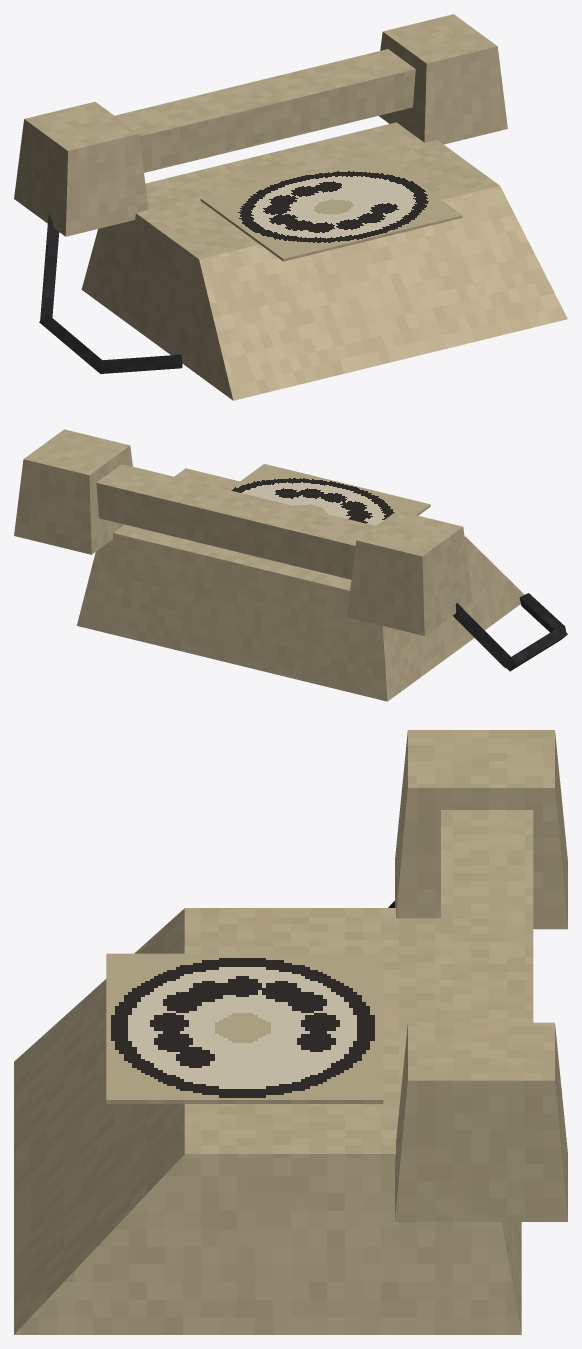
File: desk_phone.glb
3 views of the same model, one above another, from view 1: azimuth 30°, elevation 25°; view 2: azimuth 150°, elevation 25°; view 3: azimuth 270°, elevation 25° (orthographic). The views are drawn at different scales.
Parts seen in each view (by area): view 1: desk_phone; view 2: desk_phone; view 3: desk_phone.
Boxes of the visible parts, x1,y1,x2,y2 form: desk_phone: (14, 14, 567, 400); desk_phone: (14, 429, 567, 701); desk_phone: (14, 730, 567, 1334).
Size of the model in its own units: 0.401 by 0.14 by 0.24.
3 materials, 3 textured.
